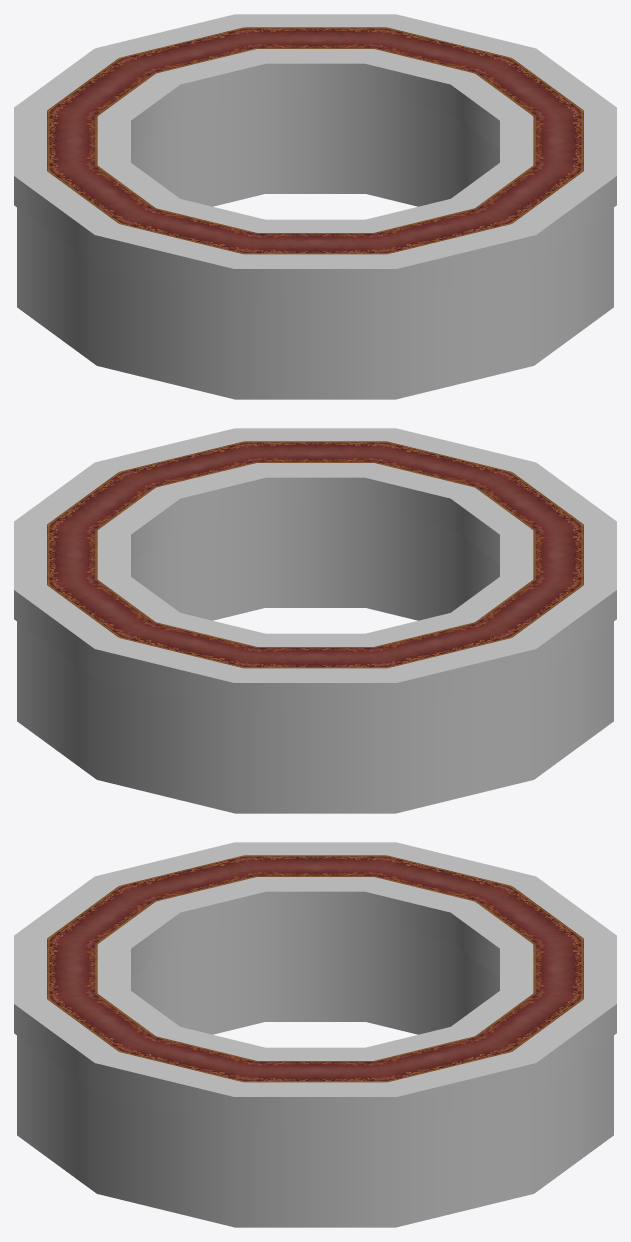
Rendered from environment_Building_zhucheng_002_e.FBX.
3 renders of one model, top to bottom at view 1: azimuth 30°, elevation 25°; view 2: azimuth 150°, elevation 25°; view 3: azimuth 270°, elevation 25°, orthographic.
Visible parts, largest first — view 1: environment_Building_zhucheng_002_e4, environment_Building_zhucheng_002_e2, environment_Building_zhucheng_002_e3, environment_Building_zhucheng_002_e1; view 2: environment_Building_zhucheng_002_e4, environment_Building_zhucheng_002_e2, environment_Building_zhucheng_002_e3, environment_Building_zhucheng_002_e1; view 3: environment_Building_zhucheng_002_e4, environment_Building_zhucheng_002_e2, environment_Building_zhucheng_002_e3, environment_Building_zhucheng_002_e1.
Part boxes in pixels (box(x1,y1,x2,y2)): environment_Building_zhucheng_002_e4: box(17, 93, 613, 399); environment_Building_zhucheng_002_e2: box(14, 14, 616, 298); environment_Building_zhucheng_002_e3: box(47, 27, 583, 254); environment_Building_zhucheng_002_e1: box(25, 19, 605, 264); environment_Building_zhucheng_002_e4: box(17, 507, 613, 813); environment_Building_zhucheng_002_e2: box(14, 428, 616, 712); environment_Building_zhucheng_002_e3: box(47, 441, 583, 668); environment_Building_zhucheng_002_e1: box(25, 433, 605, 678); environment_Building_zhucheng_002_e4: box(17, 921, 613, 1227); environment_Building_zhucheng_002_e2: box(14, 842, 616, 1126); environment_Building_zhucheng_002_e3: box(47, 855, 583, 1082); environment_Building_zhucheng_002_e1: box(25, 847, 605, 1092).
Size of the model in its own units: 3822 by 927 by 3822.
